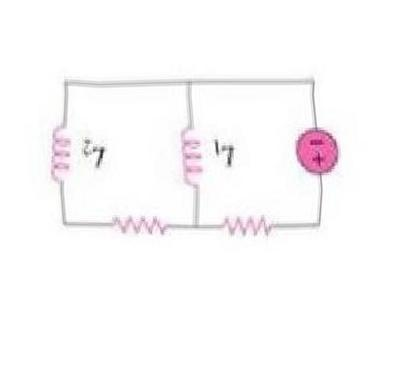Battery: (283, 116, 345, 185)
